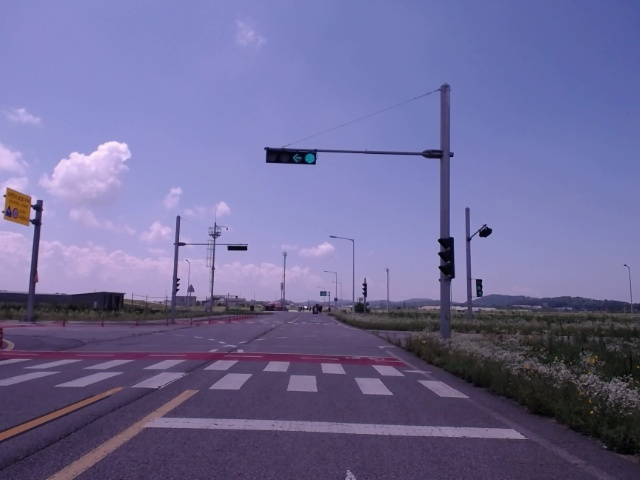all_green_4: (267, 148, 316, 165)
